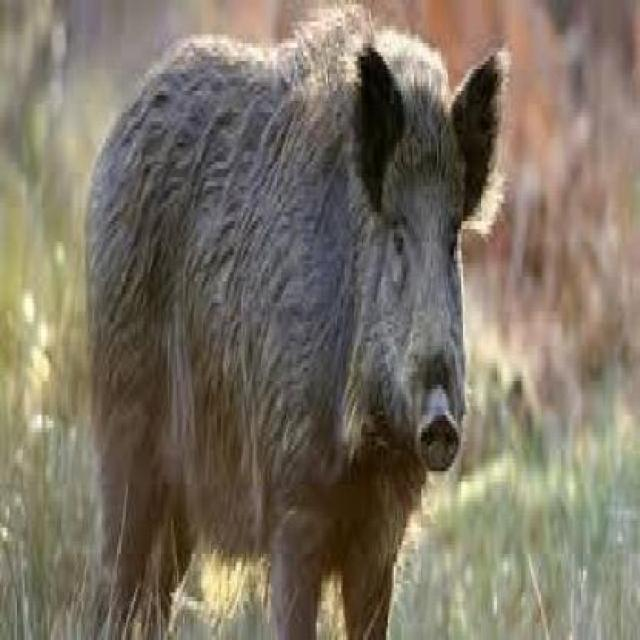wildboar: (80, 3, 511, 640)
